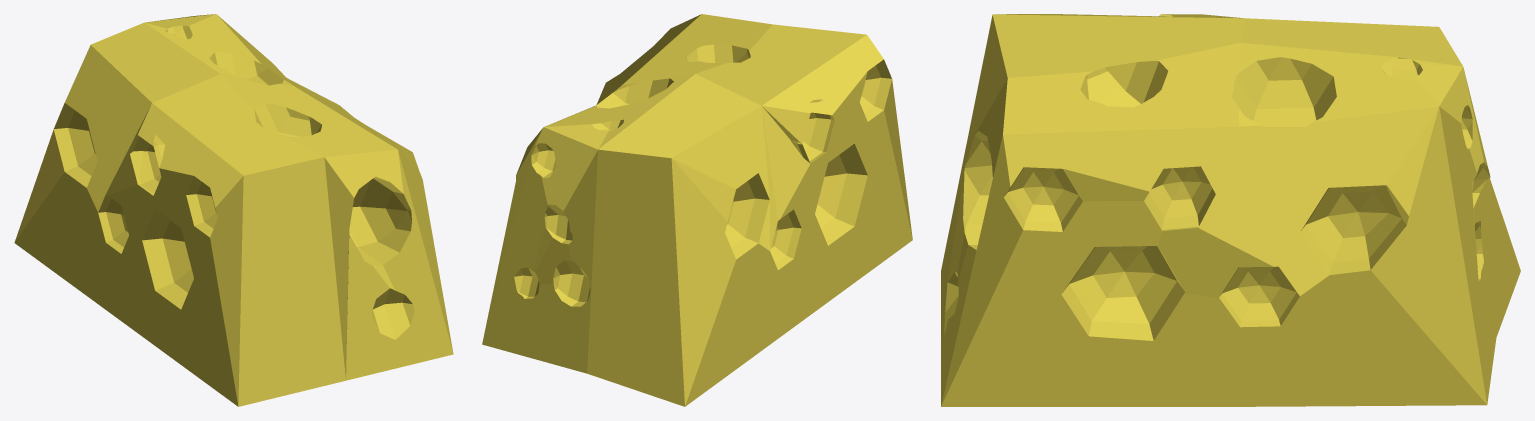
File: Cheese.fbx
The picture shows the model from 3 angles, left to right: view 1: azimuth 30°, elevation 25°; view 2: azimuth 150°, elevation 25°; view 3: azimuth 270°, elevation 25°; orthographic projection. The views are drawn at different scales.
Parts seen in each view (by area): view 1: Cube; view 2: Cube; view 3: Cube.
Part boxes in pixels (bbox=[...]): Cube: bbox=[14, 14, 453, 406]; Cube: bbox=[482, 14, 912, 406]; Cube: bbox=[941, 14, 1520, 406].
Bounding box in the file's own units: 221 × 220 × 398.
